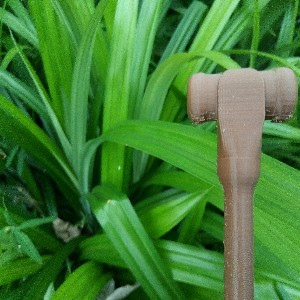palu: (188, 67, 299, 300)
